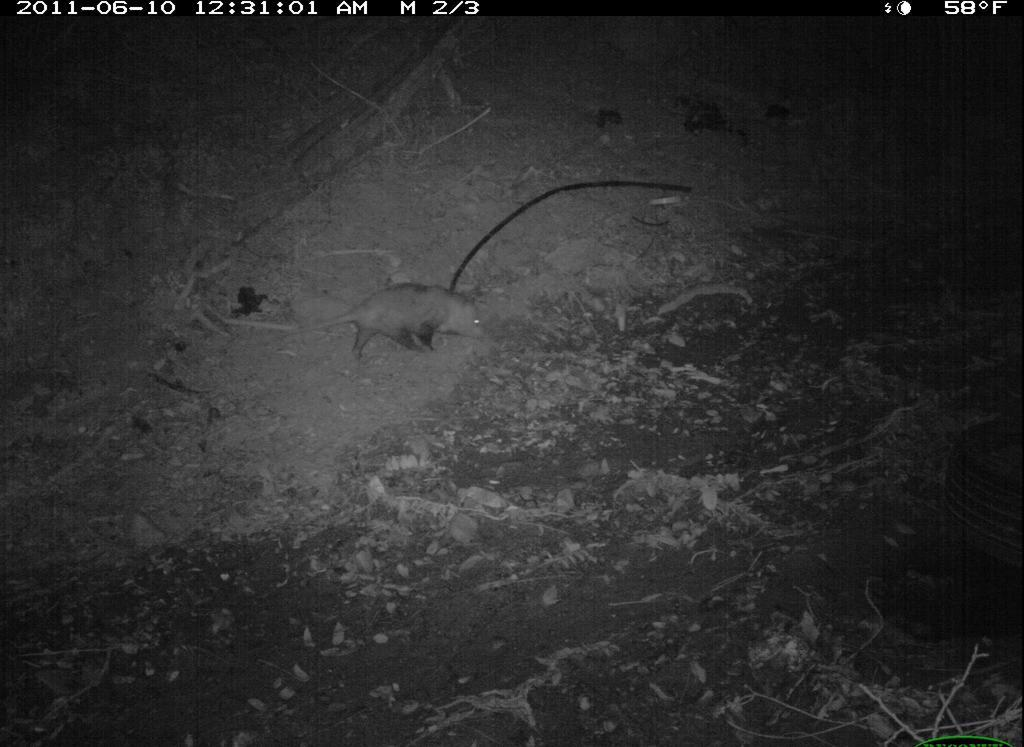opossum: (283, 281, 492, 360)
